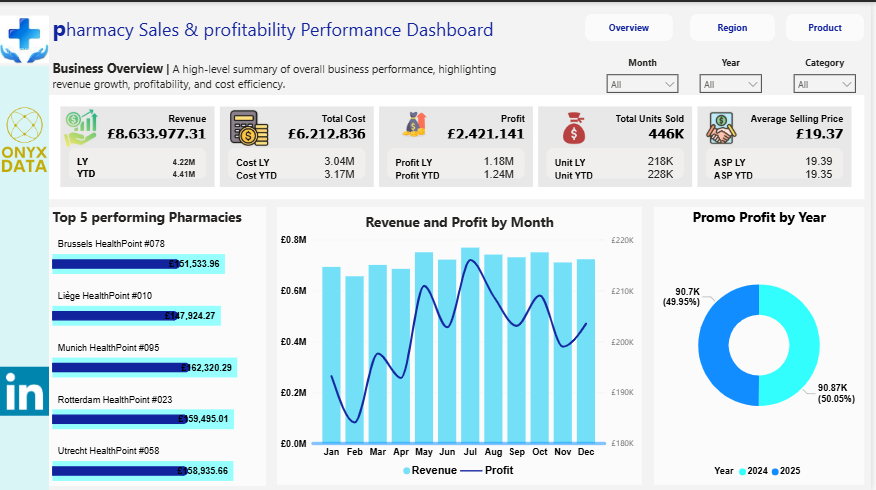

Layout of this report page (visuals, bound fields, positions):
{"tool":"powerbi","page":{"name":"Overview","canvas":[1280,720],"ordinal":0},"visuals":[{"type":"textbox","box":[71.5,10.7,670.4,67.9],"z":0},{"type":"cardVisual","fields":{"Data":["DAX Calculation.Revenue","DAX Calculation.Total Cost","DAX Calculation.Profit","DAX Calculation.Total Units Sold","DAX Calculation.Average Selling Price"]},"box":[72,136.7,1197.6,152.8],"z":1000},{"type":"image","box":[0,0,72,110.2],"z":2000},{"type":"lineStackedColumnComboChart","title":" Revenue and Profit by Month","fields":{"Category":["Date.MonthName"],"Y":["DAX Calculation.Revenue"],"Y2":["DAX Calculation.Profit"]},"box":[407,301.2,536.3,408.5],"z":3000},{"type":"textbox","box":[71.5,78.7,670.4,64.4],"z":6000},{"type":"clusteredBarChart","title":"Top 5 performing Pharmacies","fields":{"Category":["Pharmacy.PharmacyName"],"Y":["DAX Calculation.Labels Placeholder","DAX Calculation.Revenue"]},"box":[72,301.2,318.9,410],"z":7000},{"type":"slicer","title":"Month","fields":{"Values":["Pharmacy.City"]},"box":[881.3,78.7,125.1,64.4],"z":8000},{"type":"slicer","title":"Year","fields":{"Values":["Date.Year"]},"box":[1019,78.7,110.8,64.4],"z":10000},{"type":"slicer","title":"Category","fields":{"Values":["Products.Category"]},"box":[1156.6,78.7,110.8,64.4],"z":11000},{"type":"actionButton","box":[1154.9,17.6,114.6,39.7],"z":12000},{"type":"actionButton","box":[1013.9,17.6,124.9,39.7],"z":13000},{"type":"actionButton","box":[859.6,17.6,129.3,39.7],"z":14000},{"type":"shape","box":[0,94,72,626],"z":15000},{"type":"image","box":[0,146.9,72,110.2],"z":16000},{"type":"image","box":[0,531.9,72,80.8],"z":17000},{"type":"image","box":[1030,157.2,60.2,55.8],"z":22000},{"type":"image","box":[789.1,157.2,108.7,55.8],"z":22500},{"type":"image","box":[564.2,151.3,88.2,61.7],"z":23000},{"type":"image","box":[326.2,157.2,80.8,55.8],"z":23500},{"type":"image","box":[86.7,157.2,64.7,55.8],"z":24000},{"type":"donutChart","fields":{"Category":["Date.Year"],"Y":["DAX Calculation.Promo Profit"]},"box":[961,301.2,308.6,408.5],"z":24001}]}

Visuals, with their boxes in screenshot pixels (x1, y1, x2, y2), scaled from the page's 1280x720 canvas onto the 876x490 screenshot:
textbox: (x1=49, y1=7, x2=508, y2=53)
cardVisual - DAX Calculation.Revenue x DAX Calculation.Total Cost: (x1=49, y1=93, x2=869, y2=197)
image: (x1=0, y1=0, x2=49, y2=75)
" Revenue and Profit by Month" lineStackedColumnComboChart: (x1=279, y1=205, x2=646, y2=483)
textbox: (x1=49, y1=54, x2=508, y2=97)
"Top 5 performing Pharmacies" clusteredBarChart: (x1=49, y1=205, x2=268, y2=484)
"Month" slicer: (x1=603, y1=54, x2=689, y2=97)
"Year" slicer: (x1=697, y1=54, x2=773, y2=97)
"Category" slicer: (x1=792, y1=54, x2=867, y2=97)
actionButton: (x1=790, y1=12, x2=869, y2=39)
actionButton: (x1=694, y1=12, x2=779, y2=39)
actionButton: (x1=588, y1=12, x2=677, y2=39)
shape: (x1=0, y1=64, x2=49, y2=489)
image: (x1=0, y1=100, x2=49, y2=175)
image: (x1=0, y1=362, x2=49, y2=417)
image: (x1=705, y1=107, x2=746, y2=145)
image: (x1=540, y1=107, x2=614, y2=145)
image: (x1=386, y1=103, x2=446, y2=145)
image: (x1=223, y1=107, x2=279, y2=145)
image: (x1=59, y1=107, x2=104, y2=145)
donutChart - Date.Year x DAX Calculation.Promo Profit: (x1=658, y1=205, x2=869, y2=483)
